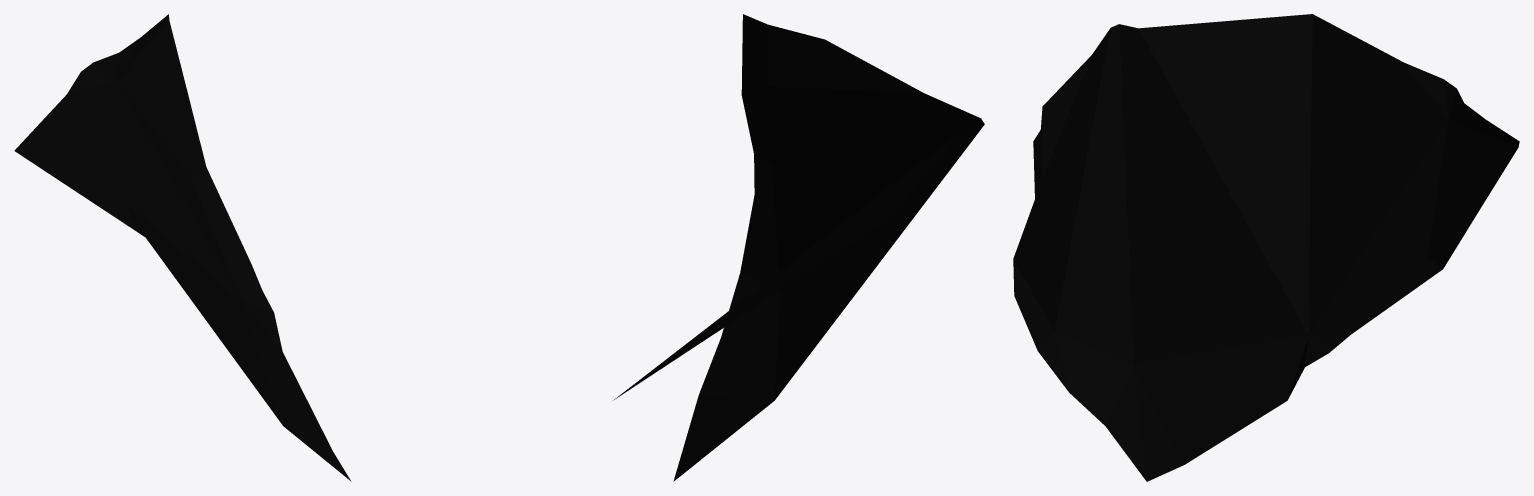
3 views of the same model, side by side, from view 1: azimuth 30°, elevation 25°; view 2: azimuth 150°, elevation 25°; view 3: azimuth 270°, elevation 25° (orthographic). The views are drawn at different scales.
Bounding box in the file's own units: 1.04 × 1.3 × 1.75.
1 material, 1 textured.
